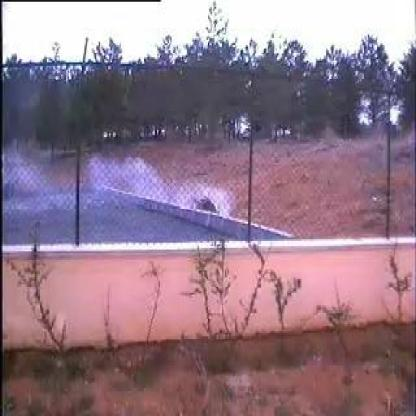-: (45, 154, 232, 241)
